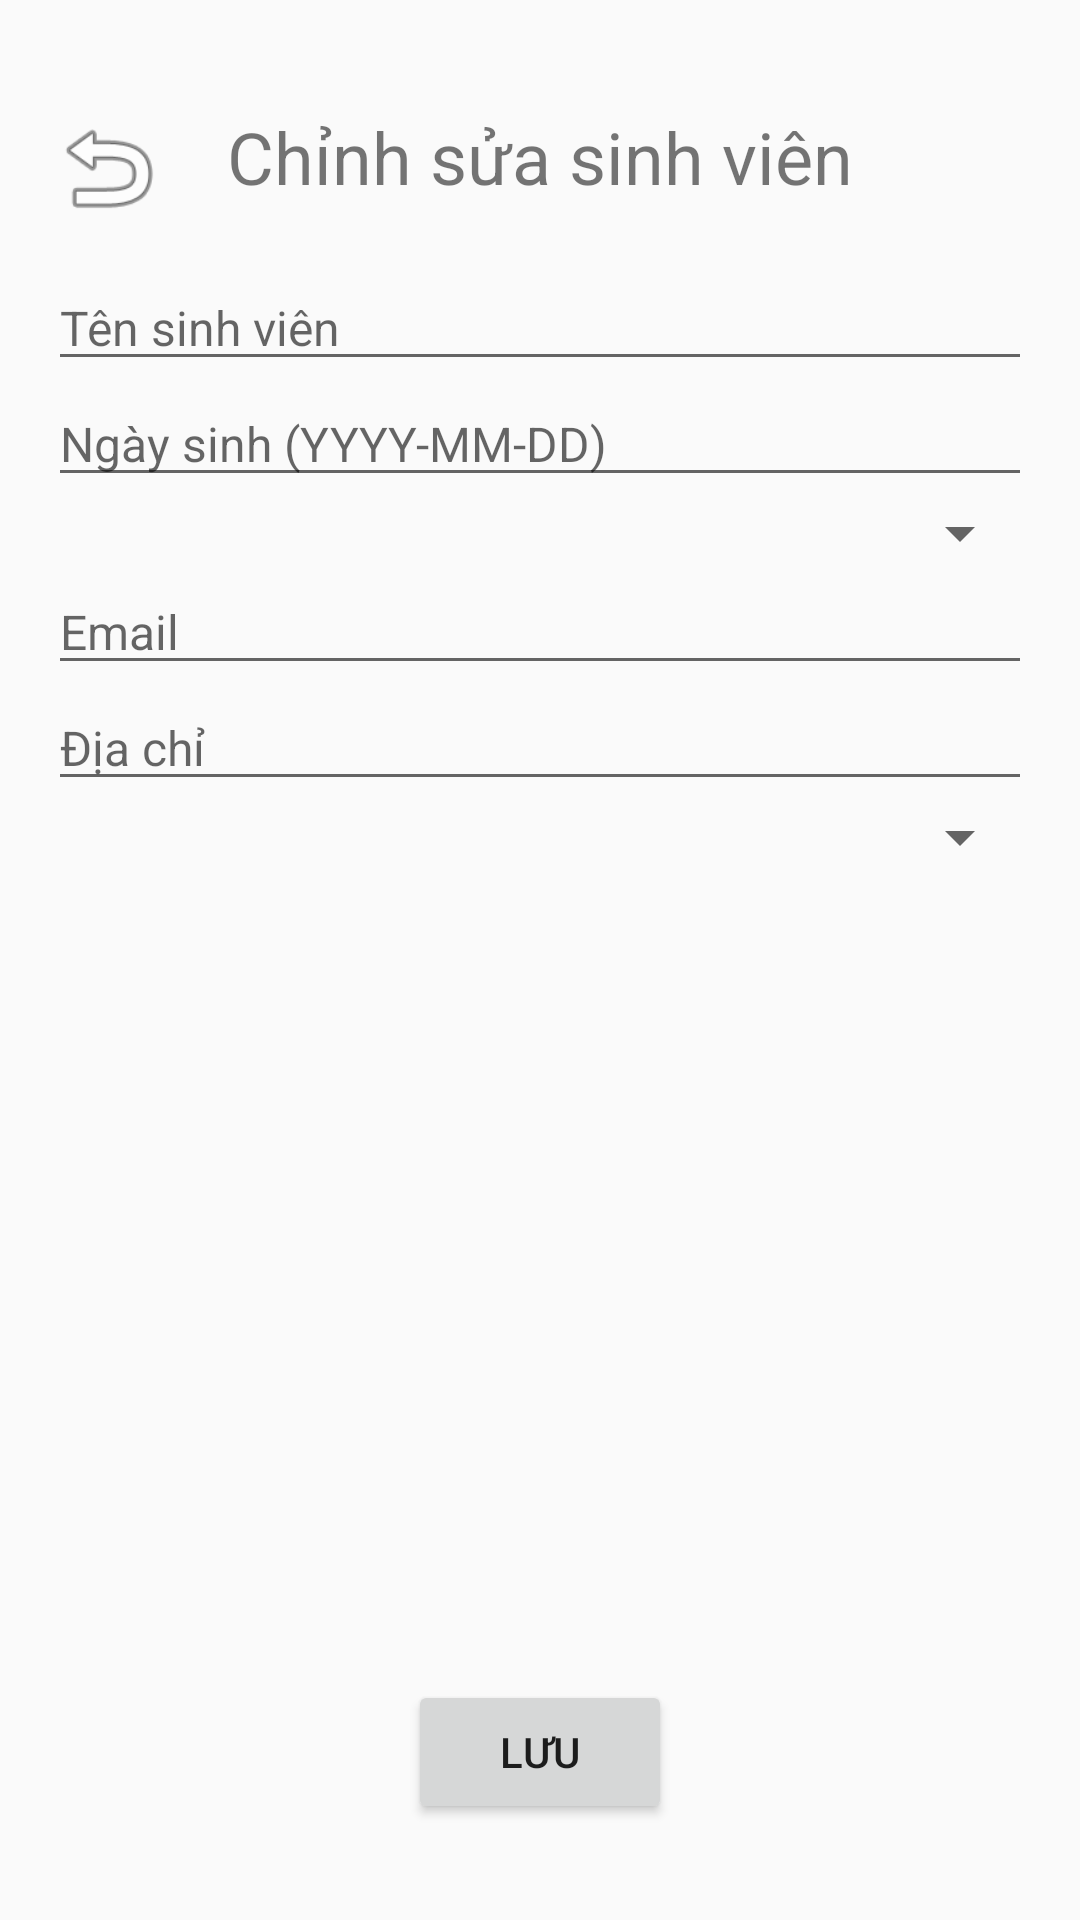

Icons on this 1080×1920 Android screen, each with the point to tap as point (x, y):
revert: point (109, 169)
